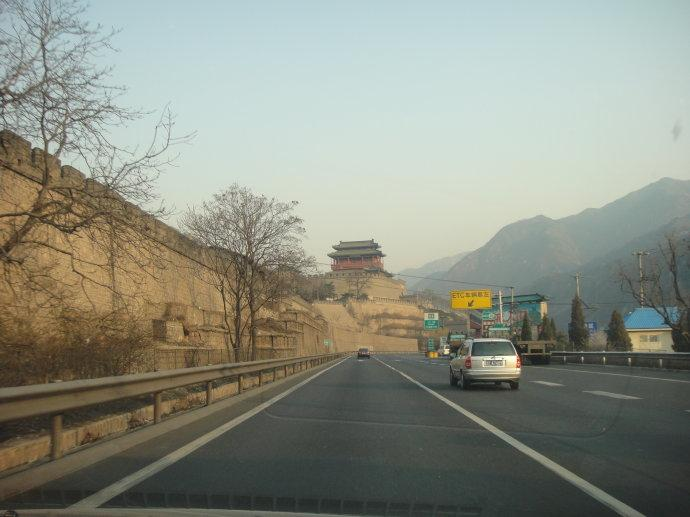car: (449, 337, 521, 390), (435, 345, 453, 357), (357, 347, 371, 359)
